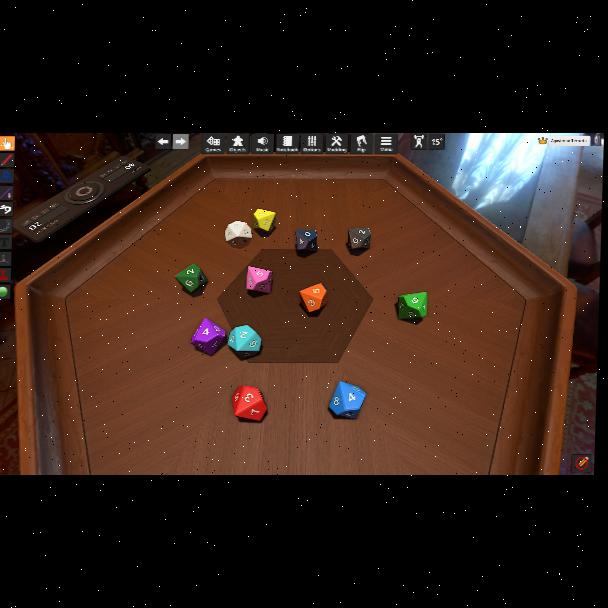d10: (328, 381, 366, 419), (231, 386, 267, 422), (190, 318, 224, 356), (226, 323, 261, 358), (175, 266, 207, 294), (298, 284, 327, 314), (398, 292, 426, 320), (225, 220, 253, 248), (246, 266, 273, 294), (253, 208, 276, 234), (348, 228, 370, 250), (295, 229, 317, 251)
